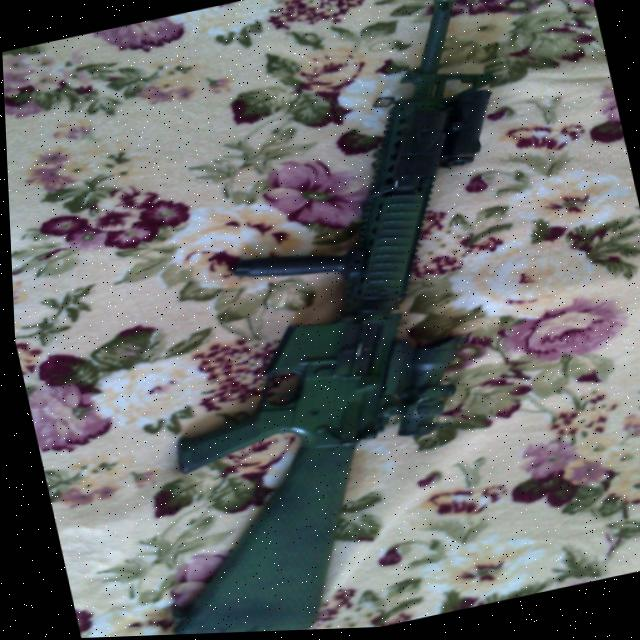firearm: (46, 0, 599, 639)
